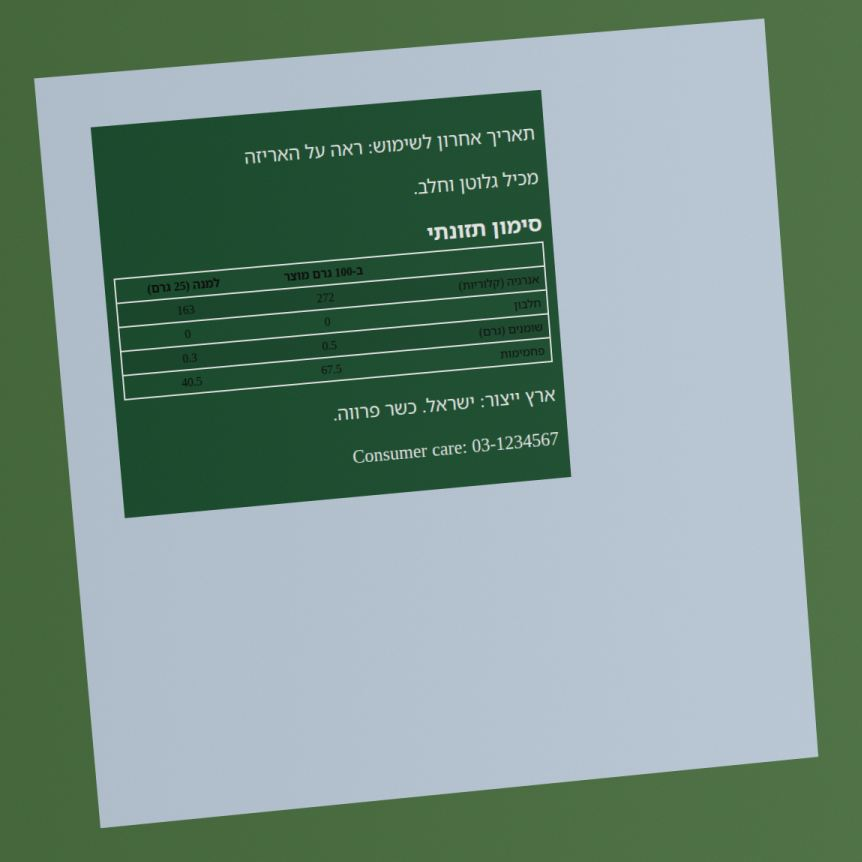carbs: (318, 358, 344, 380)
energy: (314, 286, 337, 308)
fat: (319, 334, 339, 356)
protein: (322, 311, 333, 332)
